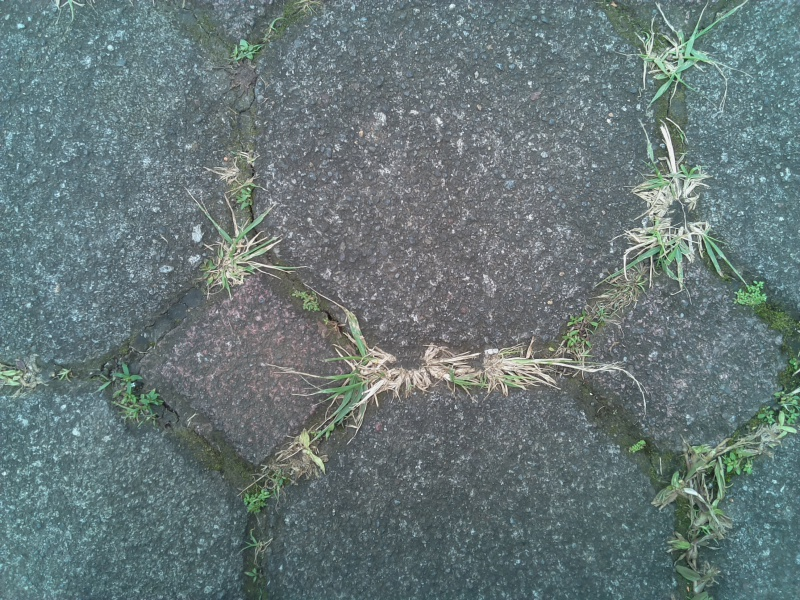Weed: (332, 302, 415, 435), (646, 427, 758, 525), (625, 138, 721, 221), (196, 212, 276, 303), (609, 221, 729, 280), (639, 18, 725, 100), (478, 337, 564, 414), (96, 357, 169, 439), (420, 330, 486, 408), (665, 535, 727, 600), (553, 303, 618, 361), (213, 144, 270, 209), (724, 272, 779, 316), (1, 350, 49, 400), (235, 482, 282, 527), (221, 32, 273, 72), (288, 281, 327, 320), (238, 527, 278, 562), (238, 559, 270, 589), (55, 361, 77, 389)
